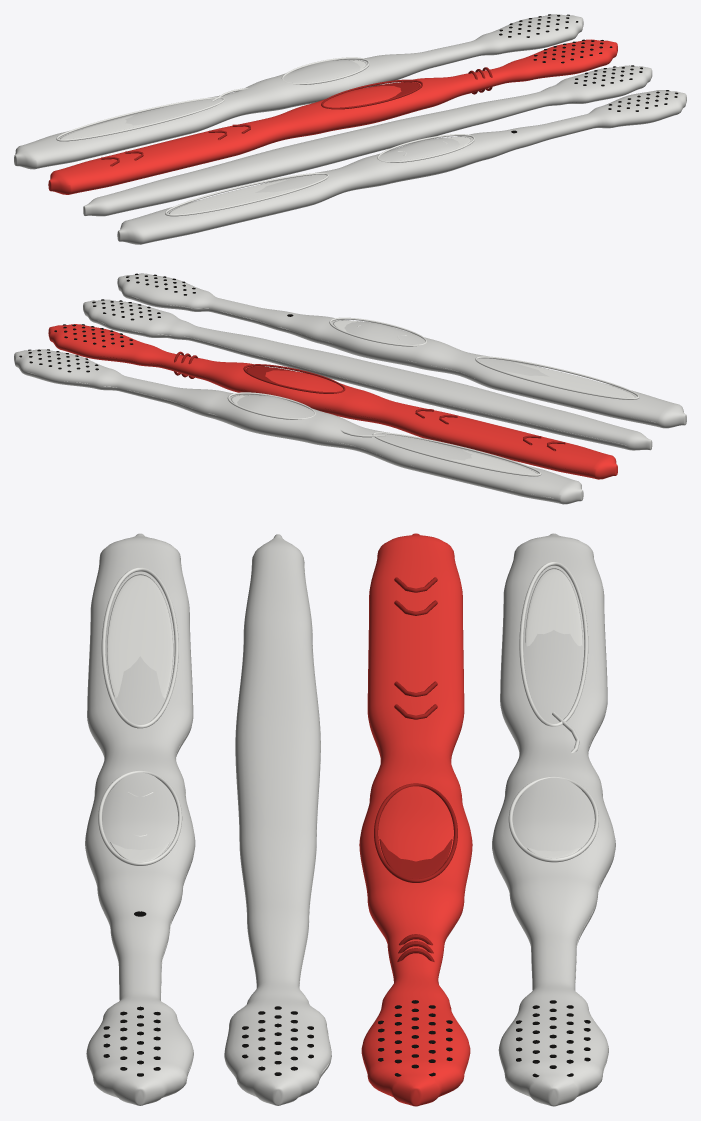
The model's file is product-20-toothbrush-collection.glb.
The picture shows the model from 3 angles, top to bottom: view 1: azimuth 30°, elevation 25°; view 2: azimuth 150°, elevation 25°; view 3: azimuth 270°, elevation 25°; orthographic projection. The views are drawn at different scales.
Visible parts, largest first — view 1: Variant 2 red chevron toothbrush, Variant 1 white sculpted toothbrush, Variant 4 white vented toothbrush, Variant 3 white slim toothbrush, Variant 4 rear oval recess, Variant 4 rear oval rim, Variant 1 rear inset rim, Variant 1 rear inset, Variant 2 thumb recess rim, Variant 4 thumb pad rim, Variant 1 thumb oval rim; view 2: Variant 1 white sculpted toothbrush, Variant 2 red chevron toothbrush, Variant 4 white vented toothbrush, Variant 3 white slim toothbrush, Variant 4 rear oval recess, Variant 4 rear oval rim, Variant 1 rear inset rim, Variant 1 rear inset, Variant 2 thumb recess rim, Variant 4 thumb pad rim, Variant 1 thumb oval rim, Variant 3 subtle parting line; view 3: Variant 2 red chevron toothbrush, Variant 1 white sculpted toothbrush, Variant 3 white slim toothbrush, Variant 4 white vented toothbrush, Variant 4 rear oval recess, Variant 1 rear inset, Variant 4 rear oval rim, Variant 1 rear inset rim, Variant 2 thumb recess rim, Variant 2 thumb recess, Variant 4 thumb pad rim, Variant 1 thumb oval rim (+2 smaller).
Part boxes in pixels (box(x1,y1,x2,y2)): Variant 2 red chevron toothbrush: box(48, 39, 617, 194); Variant 1 white sculpted toothbrush: box(14, 14, 583, 169); Variant 4 white vented toothbrush: box(117, 90, 686, 244); Variant 3 white slim toothbrush: box(83, 65, 652, 216); Variant 4 rear oval recess: box(169, 179, 298, 214); Variant 4 rear oval rim: box(165, 172, 328, 216); Variant 1 rear inset rim: box(56, 97, 224, 141); Variant 1 rear inset: box(60, 115, 146, 139); Variant 2 thumb recess rim: box(321, 79, 422, 109); Variant 4 thumb pad rim: box(377, 134, 474, 162); Variant 1 thumb oval rim: box(281, 57, 369, 84); Variant 1 white sculpted toothbrush: box(14, 349, 583, 504); Variant 2 red chevron toothbrush: box(48, 324, 617, 479); Variant 4 white vented toothbrush: box(117, 273, 686, 428); Variant 3 white slim toothbrush: box(83, 299, 652, 450); Variant 4 rear oval recess: box(504, 362, 635, 397); Variant 4 rear oval rim: box(475, 356, 639, 399); Variant 1 rear inset rim: box(372, 432, 541, 476); Variant 1 rear inset: box(451, 450, 537, 474); Variant 2 thumb recess rim: box(243, 364, 345, 393); Variant 4 thumb pad rim: box(329, 317, 426, 346); Variant 1 thumb oval rim: box(227, 392, 315, 419); Variant 3 subtle parting line: box(97, 320, 626, 445); Variant 2 red chevron toothbrush: box(359, 533, 472, 1106); Variant 1 white sculpted toothbrush: box(492, 533, 615, 1106); Variant 3 white slim toothbrush: box(224, 534, 331, 1105); Variant 4 white vented toothbrush: box(85, 533, 195, 1105); Variant 4 rear oval recess: box(107, 574, 173, 698); Variant 1 rear inset: box(525, 568, 582, 646); Variant 4 rear oval rim: box(101, 567, 178, 728); Variant 1 rear inset rim: box(519, 561, 588, 726); Variant 2 thumb recess rim: box(374, 783, 457, 882); Variant 2 thumb recess: box(379, 839, 452, 878); Variant 4 thumb pad rim: box(98, 770, 182, 865); Variant 1 thumb oval rim: box(508, 776, 598, 862).
Size of the model in its own units: 0.19 by 0.00873 by 0.077.
